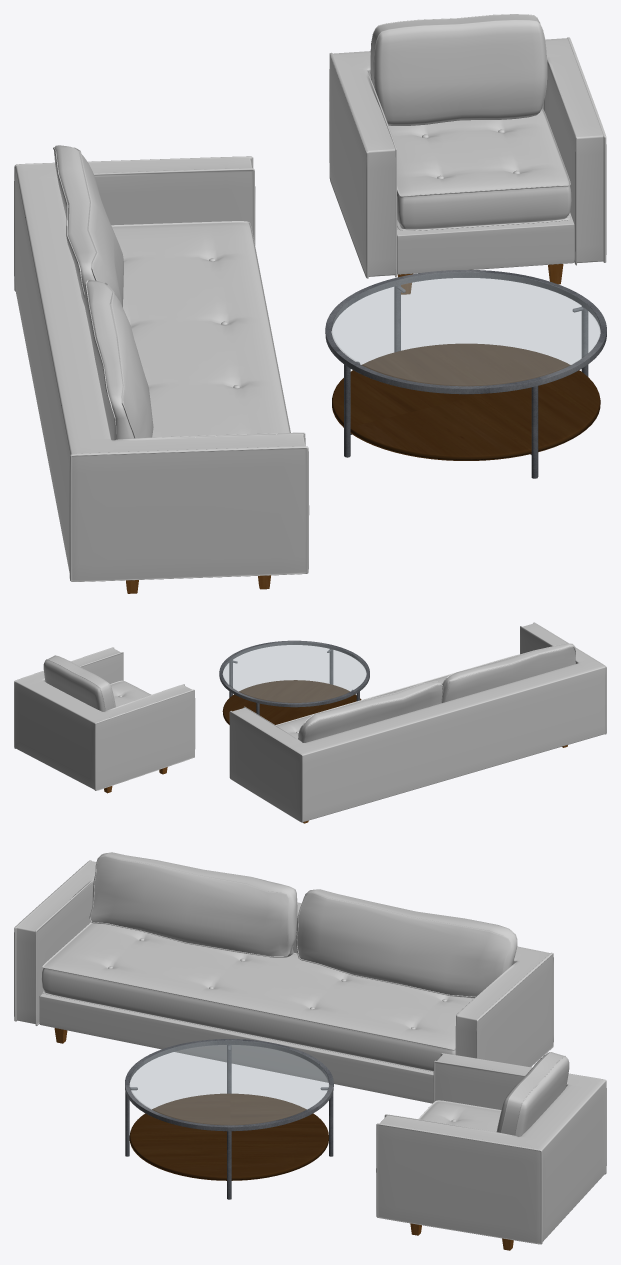
3 views of the same model, one above another, from view 1: azimuth 30°, elevation 25°; view 2: azimuth 150°, elevation 25°; view 3: azimuth 270°, elevation 25° (orthographic). The views are drawn at different scales.
Parts seen in each view (by area): view 1: pCube2 (×2), pCube3 (×2), coffeetable, pCube28, pCube1, pCube20, pCube22; view 2: pCube2 (×2), coffeetable, pCube22, pCube20, pCube28, pCube3 (×2); view 3: pCube2 (×2), pCube3 (×2), coffeetable, pCube22, pCube20, pCube1, pCube28.
Part boxes in pixels (x1=…): pCube2 (×2): x1=14, y1=37, x2=606, y2=581; pCube3 (×2): x1=111, y1=108, x2=571, y2=437; coffeetable: x1=325, y1=270, x2=606, y2=478; pCube28: x1=370, y1=14, x2=547, y2=125; pCube1: x1=397, y1=212, x2=574, y2=274; pCube20: x1=84, y1=280, x2=153, y2=440; pCube22: x1=53, y1=145, x2=123, y2=307; pCube2 (×2): x1=14, y1=622, x2=606, y2=822; coffeetable: x1=219, y1=640, x2=369, y2=724; pCube22: x1=298, y1=681, x2=443, y2=742; pCube20: x1=442, y1=643, x2=575, y2=702; pCube28: x1=43, y1=655, x2=115, y2=711; pCube3 (×2): x1=110, y1=654, x2=518, y2=738; pCube2 (×2): x1=14, y1=860, x2=606, y2=1244; pCube3 (×2): x1=41, y1=922, x2=501, y2=1131; coffeetable: x1=125, y1=1039, x2=333, y2=1199; pCube22: x1=296, y1=889, x2=517, y2=998; pCube20: x1=89, y1=852, x2=297, y2=957; pCube1: x1=39, y1=993, x2=433, y2=1103; pCube28: x1=496, y1=1052, x2=569, y2=1136.
Bounding box in the file's own units: 4.84 × 1.2 × 4.17.
